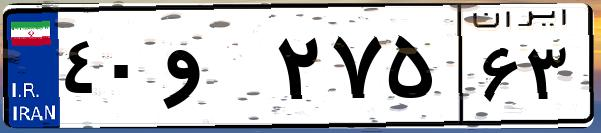0: (110, 28, 158, 98)
2: (270, 28, 330, 110)
3: (525, 38, 570, 115)
4: (57, 26, 110, 100)
5: (385, 28, 445, 110)
6: (475, 38, 525, 113)
7: (330, 28, 385, 110)
و: (158, 20, 270, 120)
